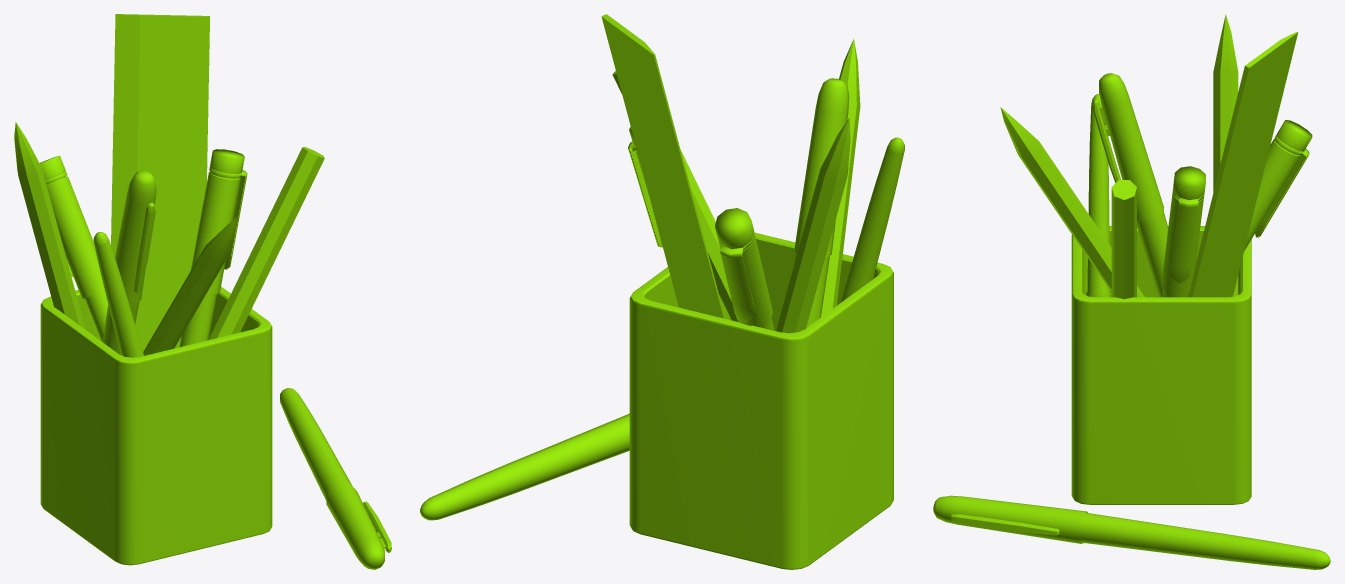
Rendered from pens_and_tools.fbx.
3 views of the same model, side by side, from view 1: azimuth 30°, elevation 25°; view 2: azimuth 150°, elevation 25°; view 3: azimuth 270°, elevation 25° (orthographic). The views are drawn at different scales.
Parts seen in each view (by area): view 1: pCube189; view 2: pCube189; view 3: pCube189.
Part boxes in pixels (left/top/right/bottom): pCube189: left=14, top=14, right=391, bottom=569; pCube189: left=420, top=14, right=904, bottom=569; pCube189: left=933, top=14, right=1330, bottom=569.
Bounding box in the file's own units: 0.233 × 0.3054 × 0.2427.
